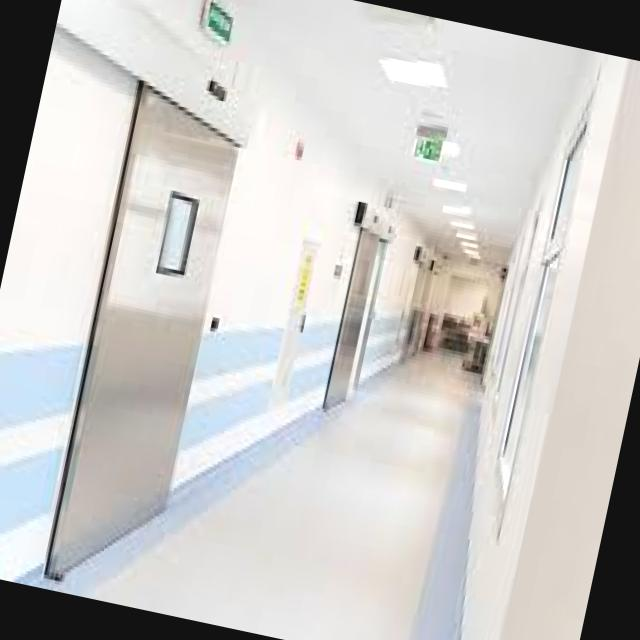door: (41, 0, 258, 582), (322, 201, 398, 412)
